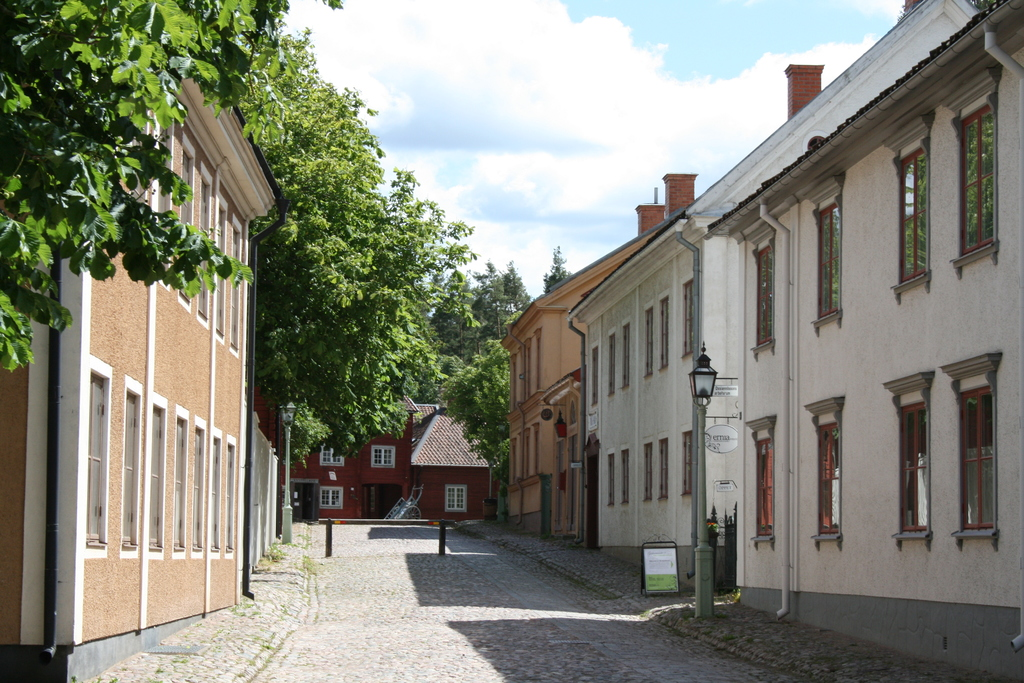Tree: (4, 0, 349, 387), (239, 112, 489, 500), (467, 263, 548, 391), (432, 338, 504, 467), (540, 238, 585, 278)
